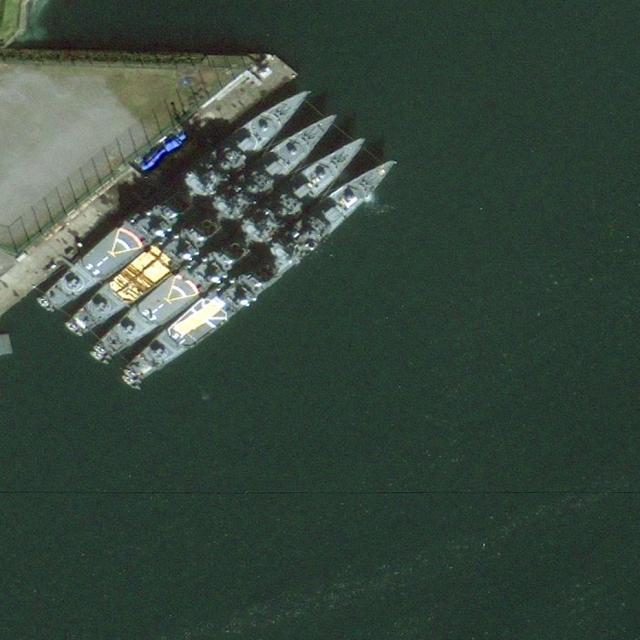Destroyer: (65, 99, 347, 344), (94, 125, 375, 369), (127, 146, 407, 390), (38, 79, 320, 316)
Other Ship: (122, 366, 146, 387), (88, 347, 110, 369), (119, 372, 142, 393), (64, 319, 85, 340), (93, 343, 112, 362), (37, 296, 56, 315)
